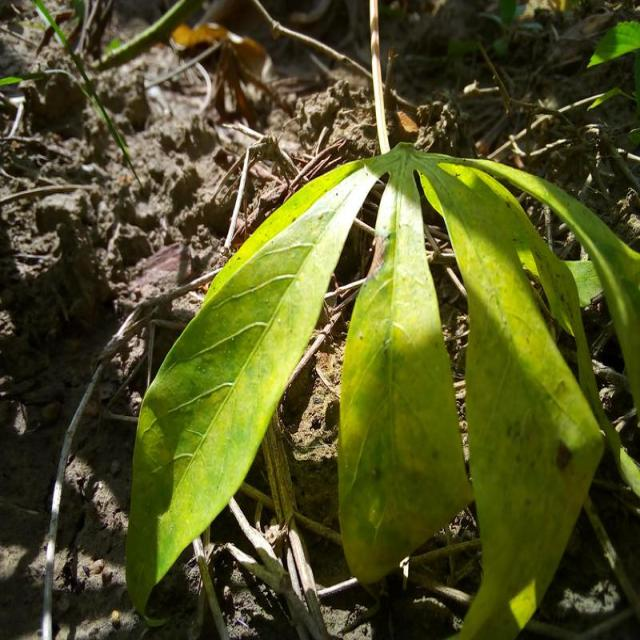cassava leaf: (124, 140, 635, 634), (124, 156, 382, 622), (415, 156, 605, 638), (336, 153, 473, 586)
